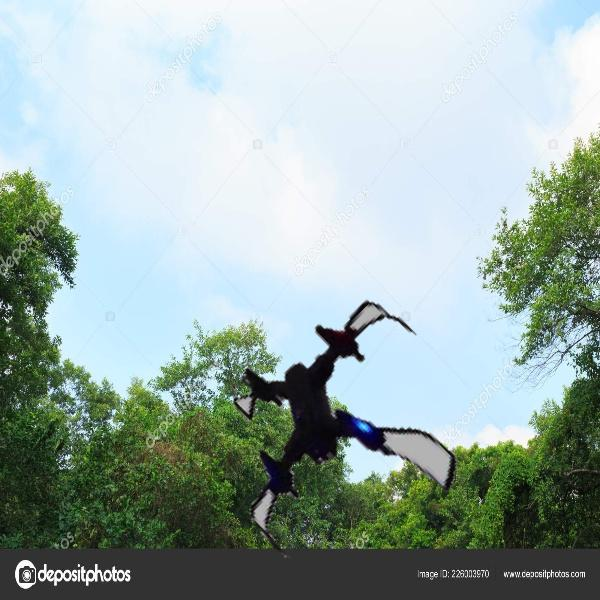drone: (212, 311, 480, 579)
